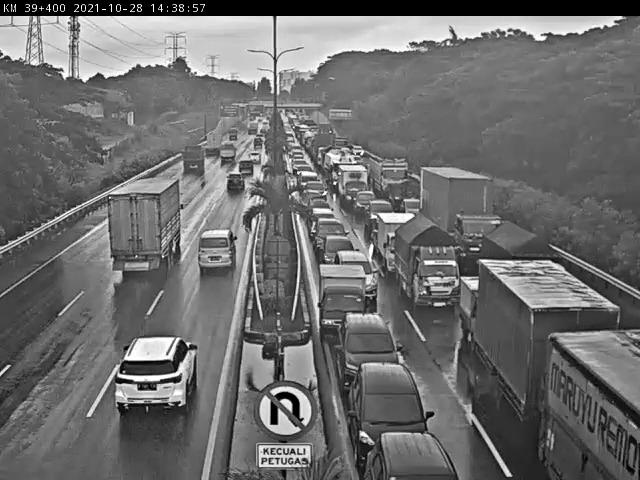big truck: (479, 259, 626, 446), (108, 176, 187, 275), (417, 165, 491, 256), (368, 155, 412, 197), (198, 133, 221, 161)
car: (349, 364, 436, 463), (115, 334, 200, 412), (335, 314, 399, 398), (363, 433, 460, 480), (335, 252, 380, 302), (197, 228, 238, 272), (319, 236, 360, 277), (312, 218, 350, 257), (367, 199, 395, 231), (309, 207, 334, 237), (300, 189, 323, 221), (297, 169, 319, 196), (355, 191, 376, 216), (224, 172, 245, 194), (237, 161, 254, 177), (247, 152, 261, 167)
small truck: (478, 219, 562, 313), (393, 215, 462, 312), (458, 274, 521, 351), (317, 261, 369, 337), (377, 212, 420, 277), (339, 165, 369, 207), (179, 144, 206, 172), (219, 141, 238, 165), (225, 130, 238, 144), (251, 139, 262, 150)
